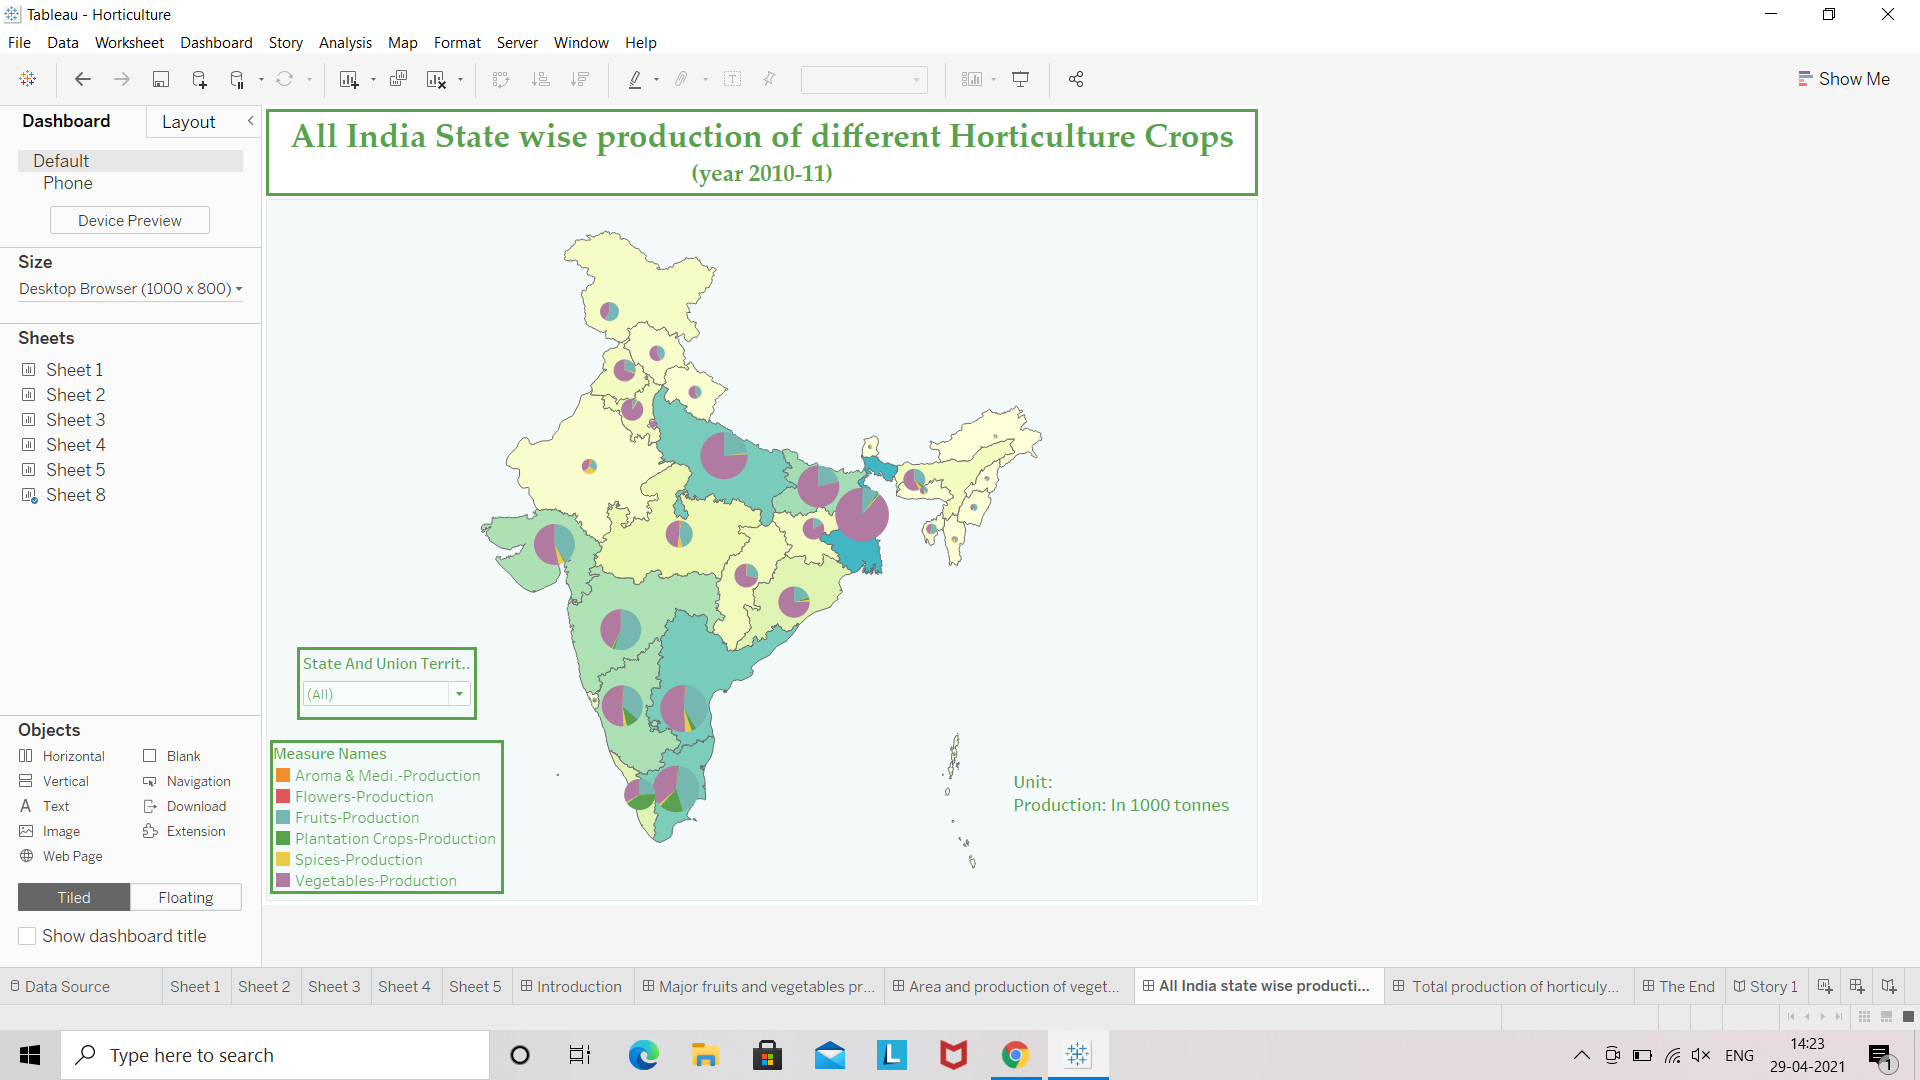

This screenshot's page, from the dashboard's own definition file:
{"tool":"tableau","page":{"name":"All India state wise production of horticulture crops","canvas":[1000,800],"ordinal":1},"visuals":[{"type":"worksheet","box":[0,0,1000,800]},{"type":"worksheet","param":"horz","box":[0,0,1000,800]},{"type":"worksheet","box":[0,0,1000,800]},{"type":"worksheet","title":"Sheet 8","mark":"Automatic","box":[0,0,1000,800]},{"type":"worksheet","title":"Sheet 8","mark":"Automatic","param":"[federated.16g9qro0v6x6qe11ilrut083su39].[State And Union Territories (group) (g","box":[35,542,180,73]},{"type":"worksheet","title":"Sheet 8","mark":"Automatic","param":"[federated.16g9qro0v6x6qe11ilrut083su39].[:Measure Names]","box":[8,635,234,154]},{"type":"worksheet","box":[748,648,231,80]}]}

Visuals, with their boxes on the page's 1000x800 design canvas (x1, y1, x2, y2). These are canvas units, not pixel positions in the 1920x1080 screenshot, which may show the page scaled, cropped or inside an application window:
worksheet: BBox(0, 0, 1000, 800)
worksheet: BBox(0, 0, 1000, 800)
worksheet: BBox(0, 0, 1000, 800)
"Sheet 8" worksheet: BBox(0, 0, 1000, 800)
"Sheet 8" worksheet: BBox(35, 542, 215, 615)
"Sheet 8" worksheet: BBox(8, 635, 242, 789)
worksheet: BBox(748, 648, 979, 728)
